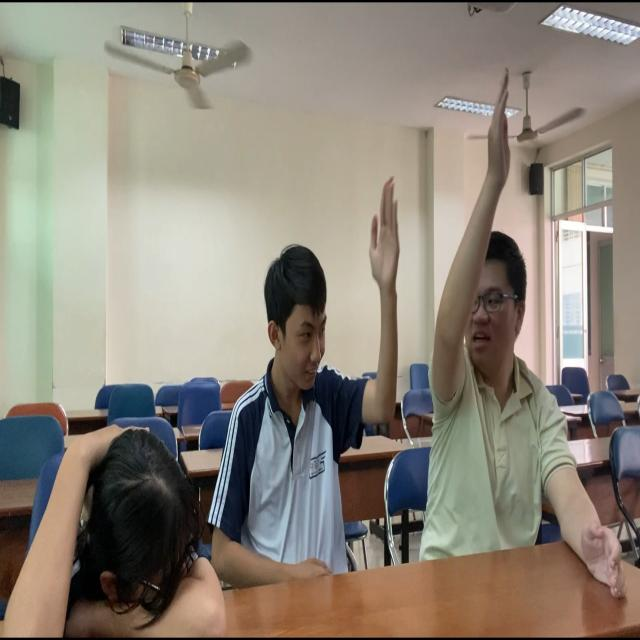raise_hand: (427, 41, 629, 622), (201, 168, 405, 617)
sleep: (8, 410, 230, 640)
